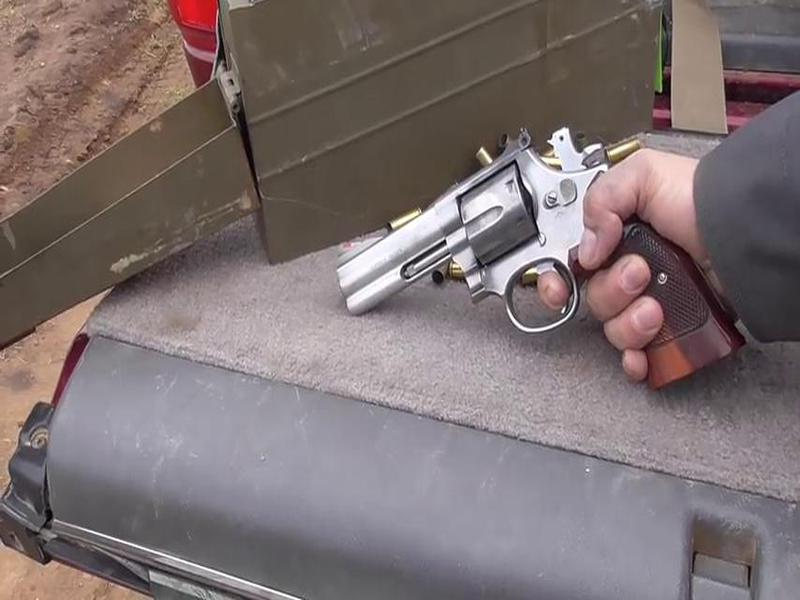Revolver: (326, 95, 745, 404)
